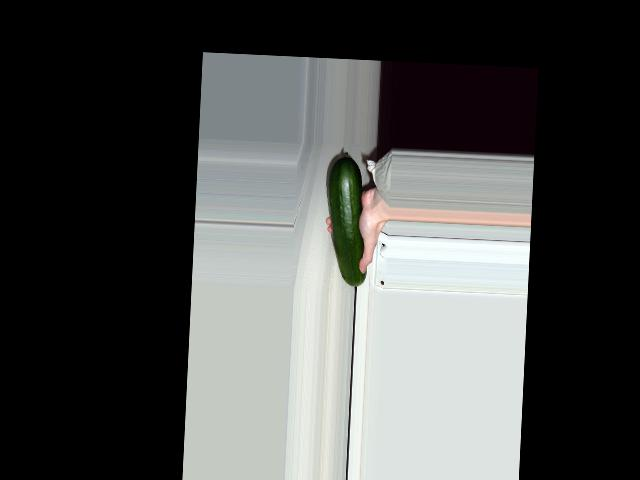cucumber: (321, 151, 371, 287)
